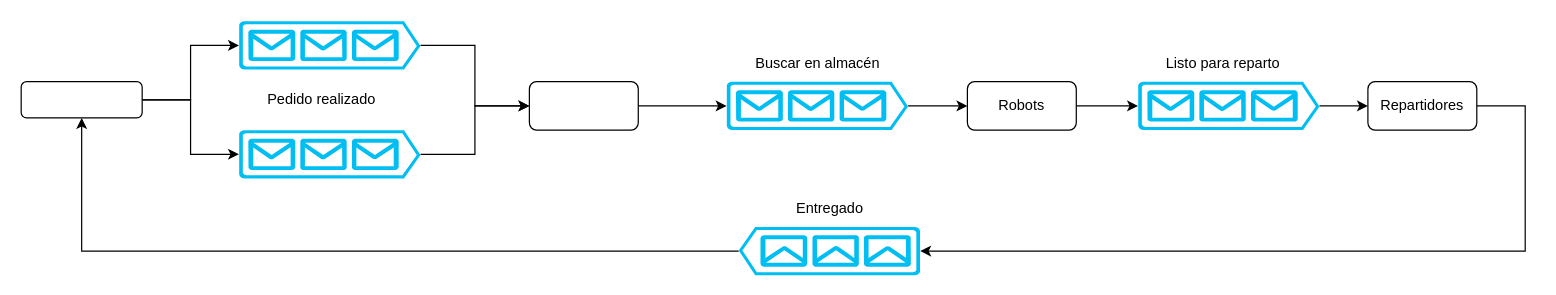
This 1556x295 diagram has some shape labels left out. The box of each missing label's shape, as (x1, y1, x2, y2) in pixels:
Cliente: (20, 80, 142, 118)
Controlador: (528, 80, 638, 130)
